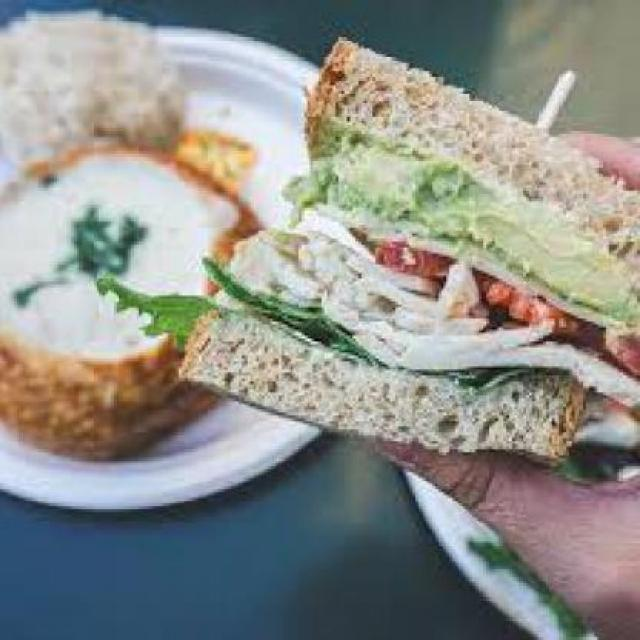clam chowder: (3, 142, 268, 467)
fried rice: (5, 5, 188, 156)
